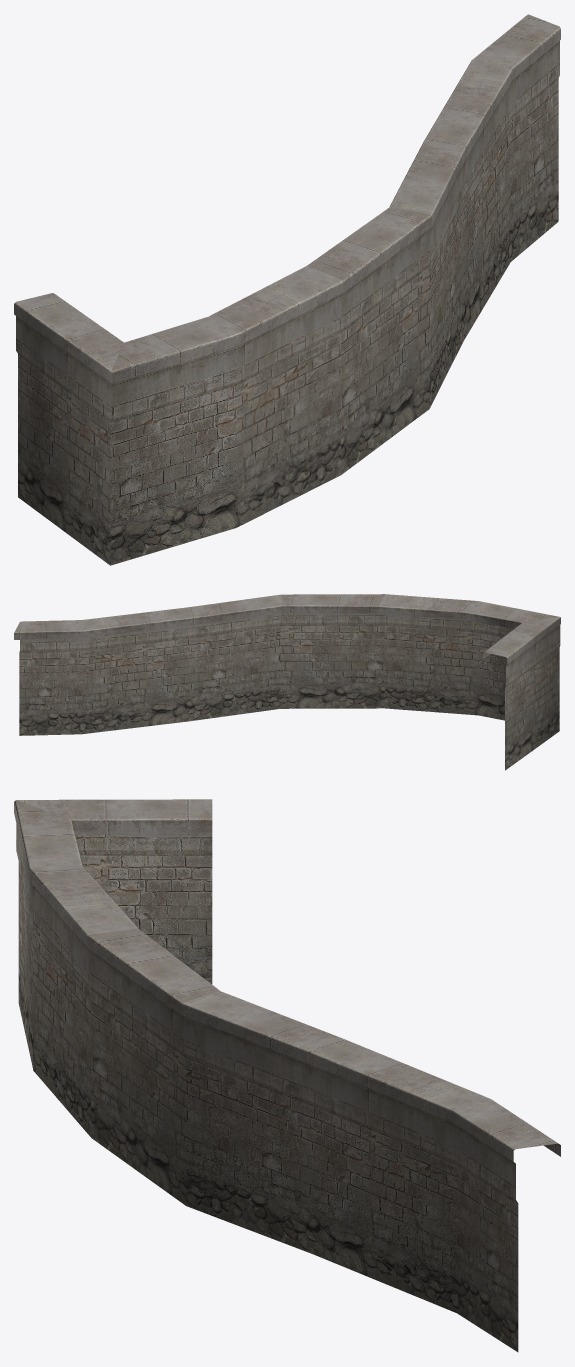
Rendered from Wall6.fbx.
The picture shows the model from 3 angles, top to bottom: view 1: azimuth 30°, elevation 25°; view 2: azimuth 150°, elevation 25°; view 3: azimuth 270°, elevation 25°; orthographic projection. The views are drawn at different scales.
Parts seen in each view (by area): view 1: LV_Campagna_Dock_DockWall07_SM_SVR; view 2: LV_Campagna_Dock_DockWall07_SM_SVR; view 3: LV_Campagna_Dock_DockWall07_SM_SVR.
Part boxes in pixels (box(x1,y1,x2,y2)): LV_Campagna_Dock_DockWall07_SM_SVR: box(14, 14, 560, 565); LV_Campagna_Dock_DockWall07_SM_SVR: box(14, 594, 560, 770); LV_Campagna_Dock_DockWall07_SM_SVR: box(14, 799, 560, 1352).
Bounding box in the file's own units: 7.1 × 1.92 × 4.68.
Materials: 1 (1 with a texture image).
